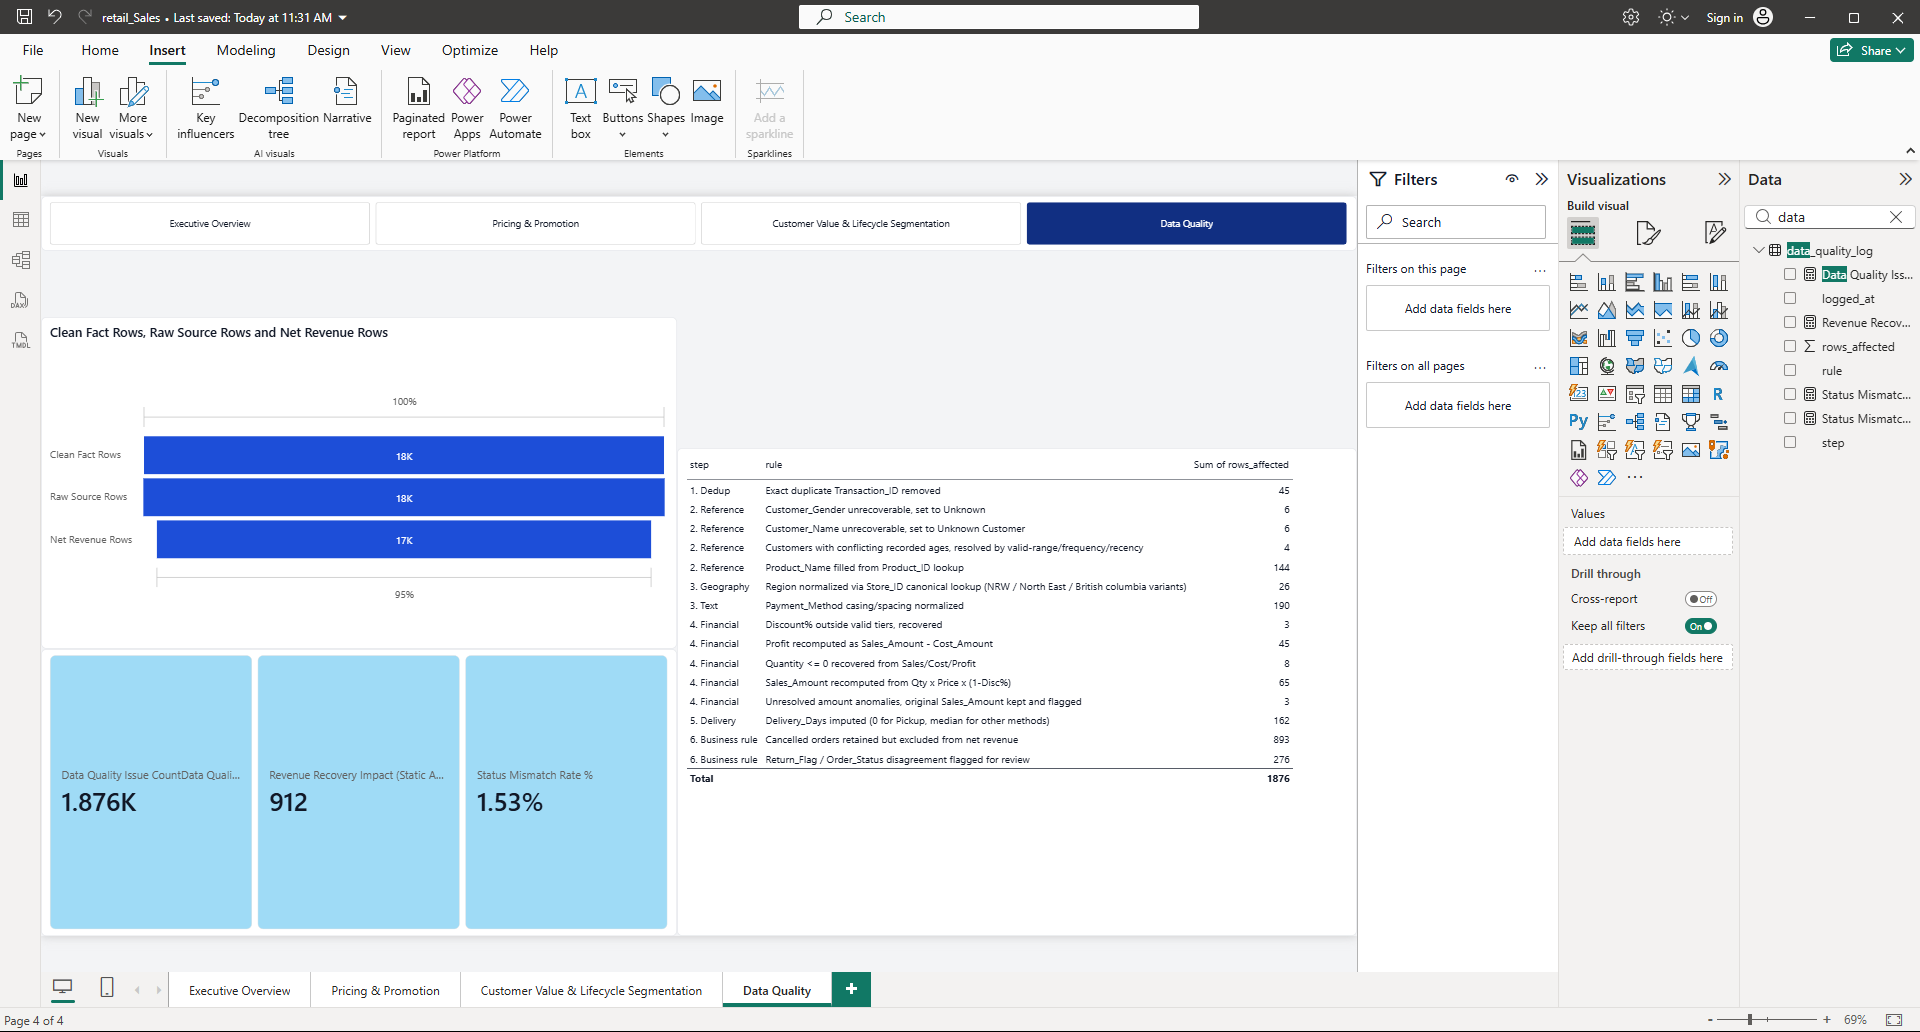

The dashboard page shown, as its layout file describes it:
{"tool":"powerbi","page":{"name":"Data Quality","canvas":[1920,1080],"ordinal":3},"visuals":[{"type":"tableEx","fields":{"Values":["retail data_quality_log.step","retail data_quality_log.rule","Sum(retail data_quality_log.rows_affected)"]},"box":[927.9,367.7,992.1,712],"z":0},{"type":"funnel","fields":{"Y":["retail fact_sales.Clean Fact Rows","retail fact_sales.Raw Source Rows","retail fact_sales.Net Revenue Rows"]},"box":[0,176.5,927.9,484.4],"z":1000},{"type":"cardVisual","fields":{"Data":["retail data_quality_log.Data Quality Issue CountData Quality Issue Count","retail data_quality_log.Revenue Recovery Impact (Static Audit Metric)Revenue Recovery Impact","retail data_quality_log.Status Mismatch Rate %"]},"box":[0,660.9,927.9,418.7],"z":2000},{"type":"pageNavigator","box":[0,0,1920,80.2],"z":2001}]}

Visuals, with their boxes on the page's 1920x1080 design canvas (x1, y1, x2, y2). These are canvas units, not pixel positions in the 1920x1032 screenshot, which may show the page scaled, cropped or inside an application window:
tableEx - retail data_quality_log.step x retail data_quality_log.rule: 928 368 1920 1080
funnel - retail fact_sales.Clean Fact Rows x retail fact_sales.Raw Source Rows: 0 176 928 661
cardVisual - retail data_quality_log.Data Quality Issue CountData Quality Issue Count x retail data_quality_log.Revenue Recovery Impact (Static Audit Metric)Revenue Recovery Impact: 0 661 928 1080
pageNavigator: 0 0 1920 80
